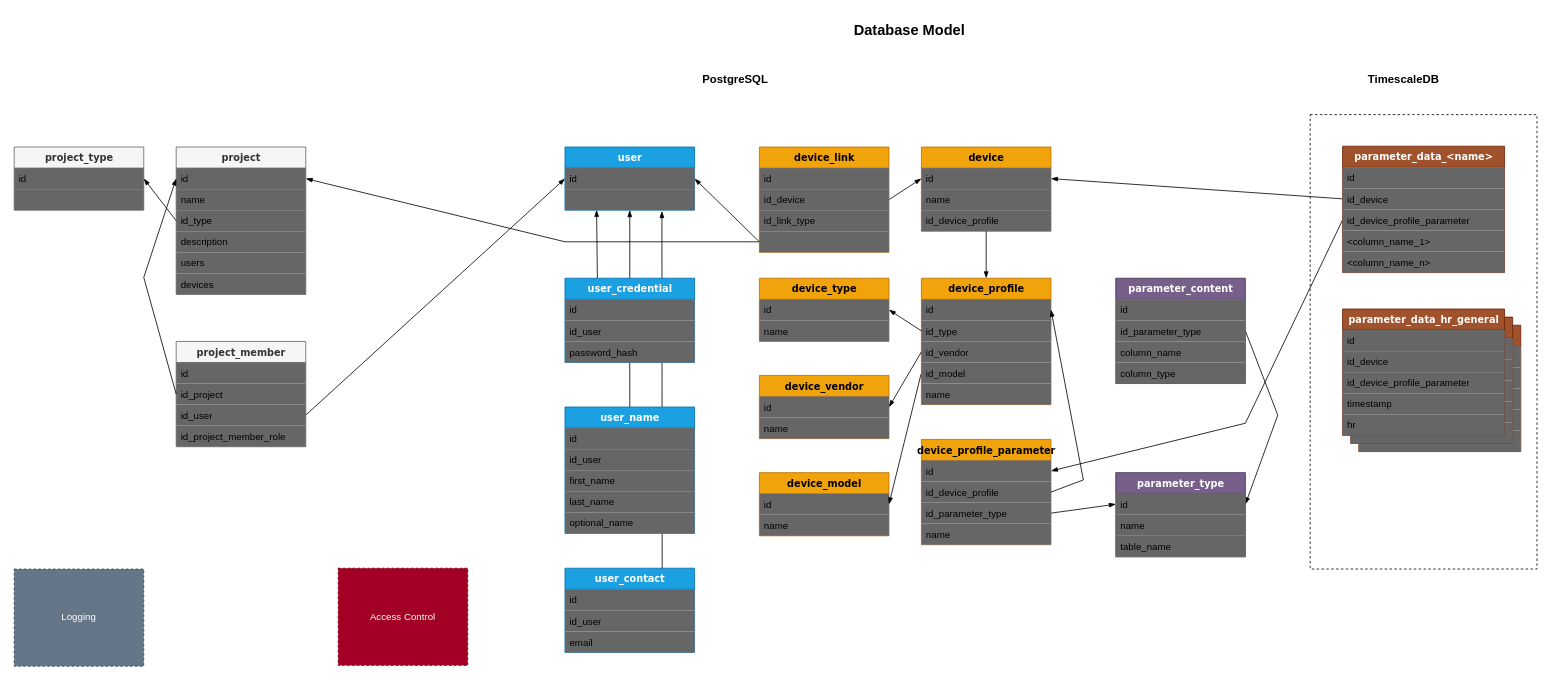
Some shapes in this 1551 by 680 pixel diagram are drawn without their labels. The shapes that lost their labels are listed below. From the top down, each one's centre as x and y in pixels, then its label:
point 78,199: name (private, public)
point 629,199: login
point 824,241: id_link
